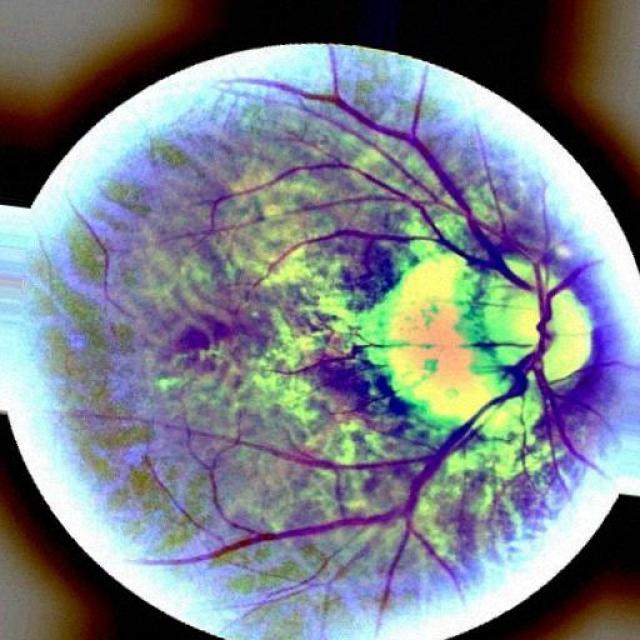Macula: (164, 310, 253, 363)
Nerves: (221, 295, 554, 553), (240, 54, 503, 262), (435, 227, 542, 293)
Optic Disk: (361, 260, 591, 419)
